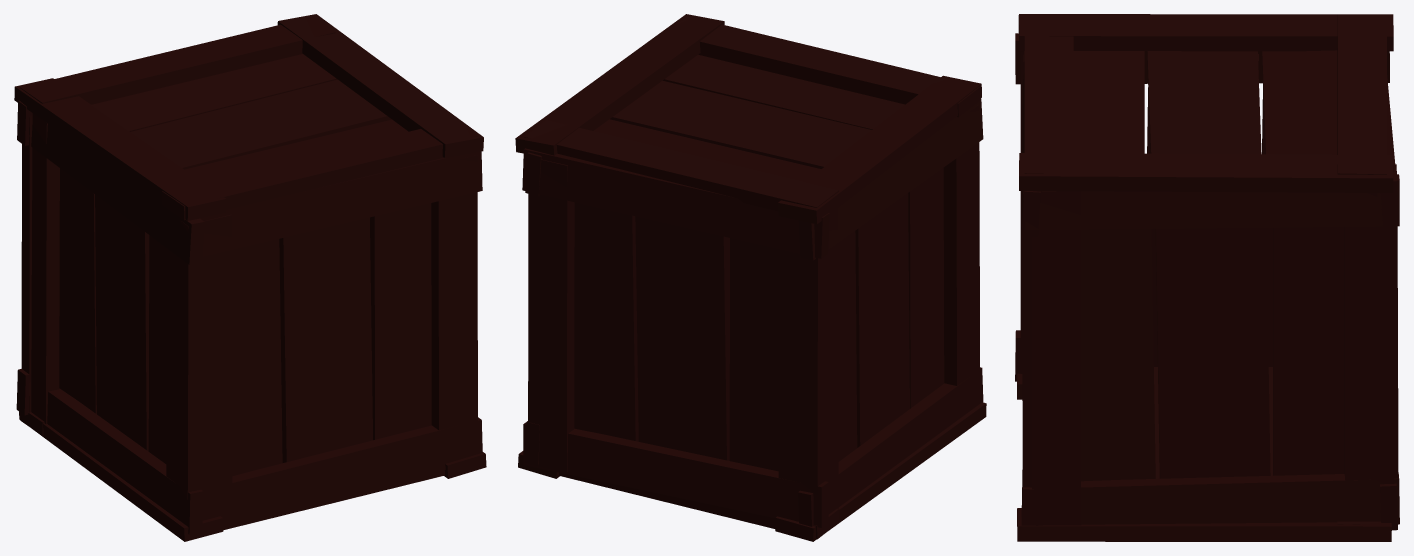
Rendered from Crate.fbx.
3 renders of one model, left to right at view 1: azimuth 30°, elevation 25°; view 2: azimuth 150°, elevation 25°; view 3: azimuth 270°, elevation 25°, orthographic. The views are drawn at different scales.
Visible parts, largest first — view 1: Crate; view 2: Crate; view 3: Crate.
Part boxes in pixels (x1,y1,x2,y2): Crate: (14,14,486,541); Crate: (515,14,986,541); Crate: (1015,14,1399,541).
Size of the model in its own units: 104 by 110 by 104.
